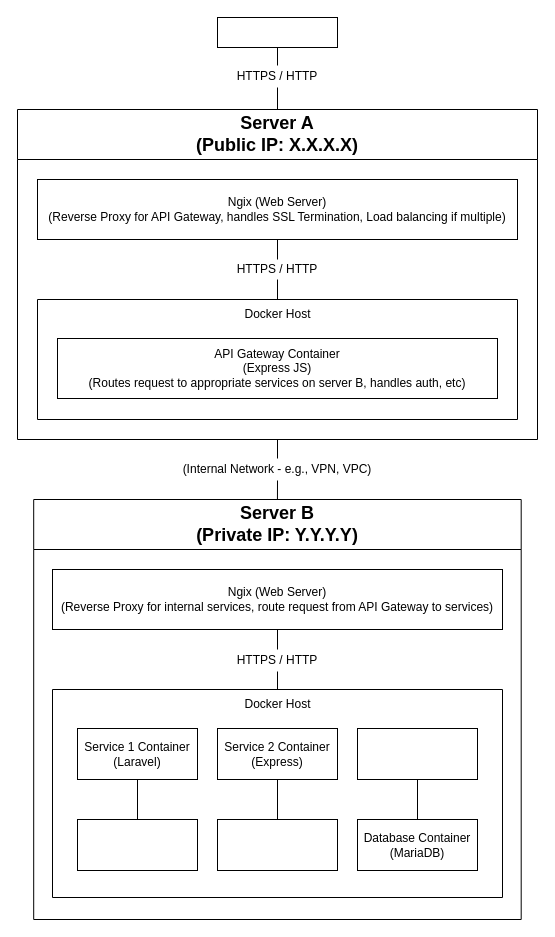
Some shapes in this 555 by 937 pixel diagram are drawn without their labels. The centre of each missing label's shape, as x and y in pixels:
"Database Container (MySQL)" goes at pixel 277 844.
"Database Container (PostgresSQL)" goes at pixel 137 844.
"Internet / Clients" goes at pixel 277 32.
"Service 3 Container (Django)" goes at pixel 417 754.
